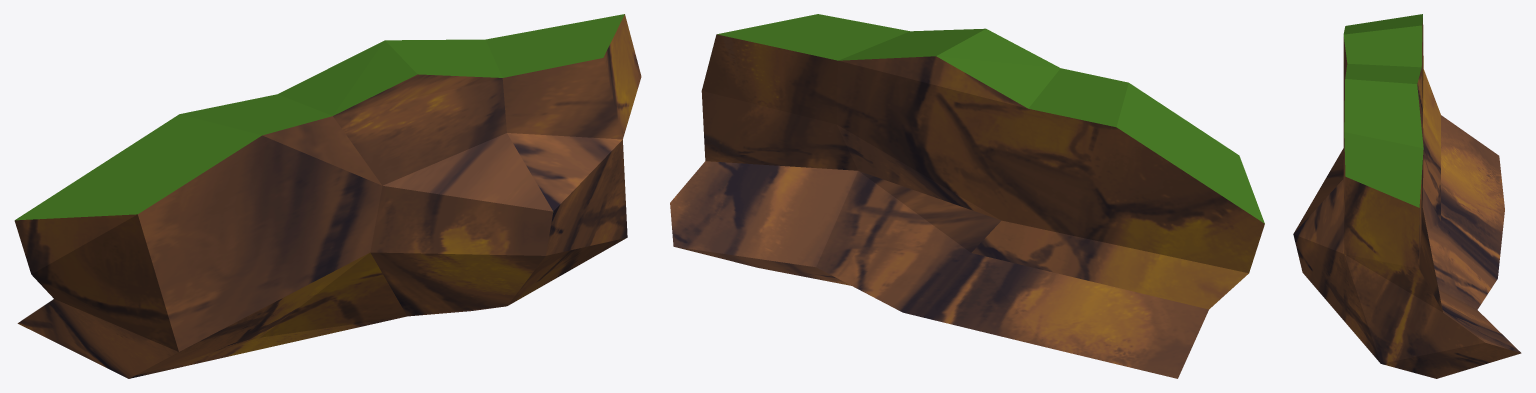
File: sali8cuatro.obj
The picture shows the model from 3 angles, left to right: view 1: azimuth 30°, elevation 25°; view 2: azimuth 150°, elevation 25°; view 3: azimuth 270°, elevation 25°; orthographic projection. The views are drawn at different scales.
Visible parts, largest first — view 1: Cube.011_Cube.012; view 2: Cube.011_Cube.012; view 3: Cube.011_Cube.012.
Boxes of the visible parts, x1=… form: Cube.011_Cube.012: x1=14, y1=14, x2=641, y2=378; Cube.011_Cube.012: x1=670, y1=14, x2=1264, y2=378; Cube.011_Cube.012: x1=1293, y1=14, x2=1521, y2=378.
Size of the model in its own units: 158 by 68.57 by 61.05.
Materials: 1 (1 with a texture image).
